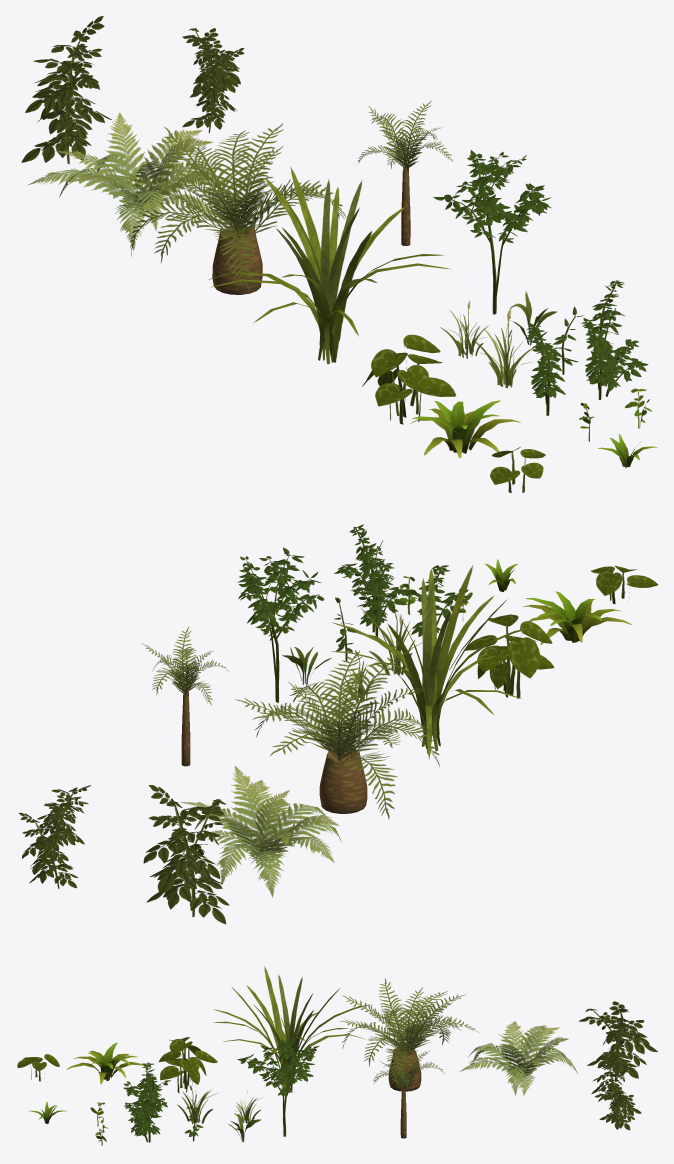
The model's file is greenhouse_foliage.glb.
The picture shows the model from 3 angles, top to bottom: view 1: azimuth 30°, elevation 25°; view 2: azimuth 150°, elevation 25°; view 3: azimuth 270°, elevation 25°; orthographic projection. The views are drawn at different scales.
Parts seen in each view (by area): view 1: Plant_Palm1, Plant_Misc1, Plant_Fern, Plant_Bush3, Plant_BushTall, Plant_Monstera1, Plant_Bush4, Plant_Bush1, Plant_Palm2, Plant_Misc4, Plant_Bush2, Plant_Monstera2 (+2 smaller); view 2: Plant_Palm1, Plant_Fern, Plant_Misc1, Plant_Bush3, Plant_BushTall, Plant_Monstera1, Plant_Bush4, Plant_Bush1, Plant_Palm2, Plant_Misc4, Plant_Monstera2, Plant_Bush2 (+1 smaller); view 3: Plant_Palm1, Plant_Fern, Plant_Misc1, Plant_Bush3, Plant_BushTall, Plant_Bush4, Plant_Monstera1, Plant_Bush1, Plant_Palm2, Plant_Misc4, Plant_Bush2, Plant_Grass1 (+1 smaller).
Boxes of the visible parts, box(x1,y1,x2,y2) form: Plant_Palm1: box(118, 123, 346, 294); Plant_Misc1: box(207, 167, 451, 364); Plant_Fern: box(27, 112, 222, 250); Plant_Bush3: box(21, 16, 111, 163); Plant_BushTall: box(433, 150, 551, 314); Plant_Monstera1: box(362, 334, 456, 424); Plant_Bush4: box(182, 28, 244, 133); Plant_Bush1: box(581, 280, 648, 399); Plant_Palm2: box(358, 100, 452, 245); Plant_Misc4: box(410, 400, 520, 458); Plant_Bush2: box(525, 323, 565, 415); Plant_Monstera2: box(490, 447, 545, 492); Plant_Palm1: box(234, 650, 439, 819); Plant_Fern: box(180, 766, 341, 897); Plant_Misc1: box(331, 565, 534, 759); Plant_Bush3: box(143, 785, 229, 924); Plant_BushTall: box(238, 547, 324, 702); Plant_Monstera1: box(463, 614, 554, 698); Plant_Bush4: box(18, 785, 91, 888); Plant_Bush1: box(334, 524, 410, 636); Plant_Palm2: box(142, 626, 228, 766); Plant_Misc4: box(523, 591, 632, 644); Plant_Monstera2: box(591, 565, 658, 603); Plant_Bush2: box(407, 565, 468, 636); Plant_Palm1: box(339, 978, 478, 1091); Plant_Fern: box(459, 1021, 577, 1095); Plant_Misc1: box(213, 966, 370, 1092); Plant_Bush3: box(579, 1001, 657, 1081); Plant_BushTall: box(237, 1039, 319, 1136); Plant_Bush4: box(591, 1052, 641, 1130); Plant_Monstera1: box(159, 1037, 217, 1093); Plant_Bush1: box(124, 1074, 167, 1142); Plant_Palm2: box(373, 1051, 444, 1138); Plant_Misc4: box(66, 1042, 146, 1084); Plant_Bush2: box(123, 1062, 170, 1123); Plant_Grass1: box(177, 1078, 217, 1124).
Size of the model in its own units: 4.41 by 2.28 by 12.02.
1 material, 1 textured.
